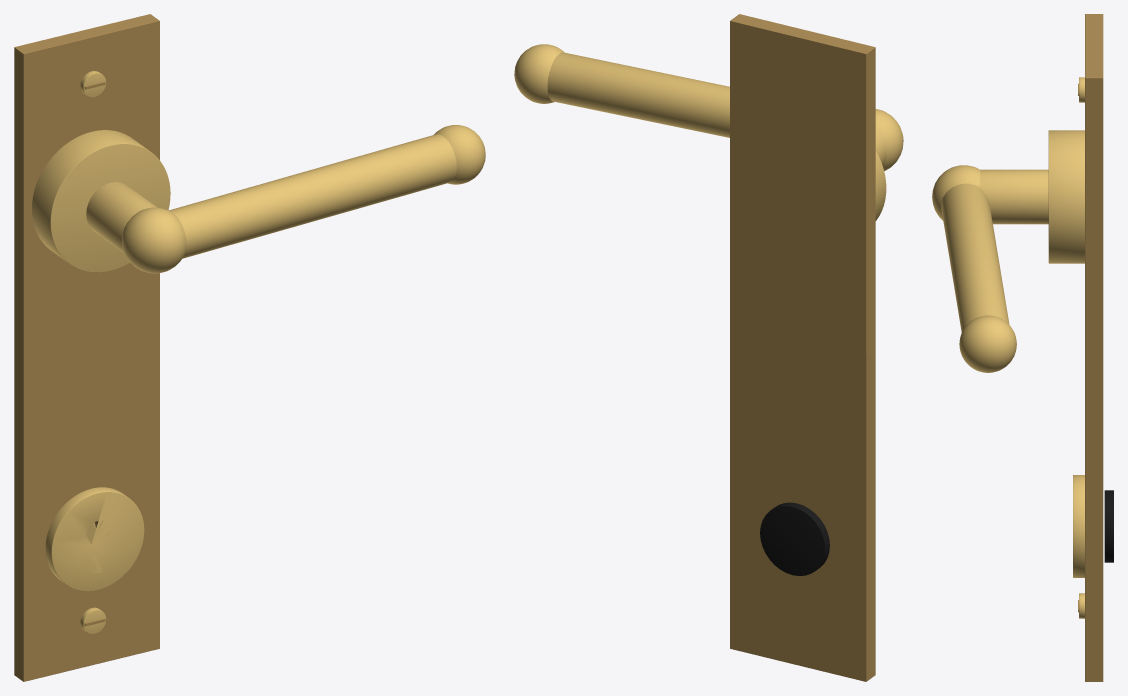
The model's file is Socket.fbx.
3 renders of one model, left to right at view 1: azimuth 30°, elevation 25°; view 2: azimuth 150°, elevation 25°; view 3: azimuth 270°, elevation 25°, orthographic. The views are drawn at different scales.
Parts seen in each view (by area): view 1: Plate_Back; view 2: Plate_Back; view 3: Plate_Back.
Boxes of the visible parts, <box> form: Plate_Back: <box>14,14,485,681</box>; Plate_Back: <box>514,14,903,681</box>; Plate_Back: <box>932,14,1113,681</box>.
Size of the model in its own units: 14.95 by 22 by 6.
